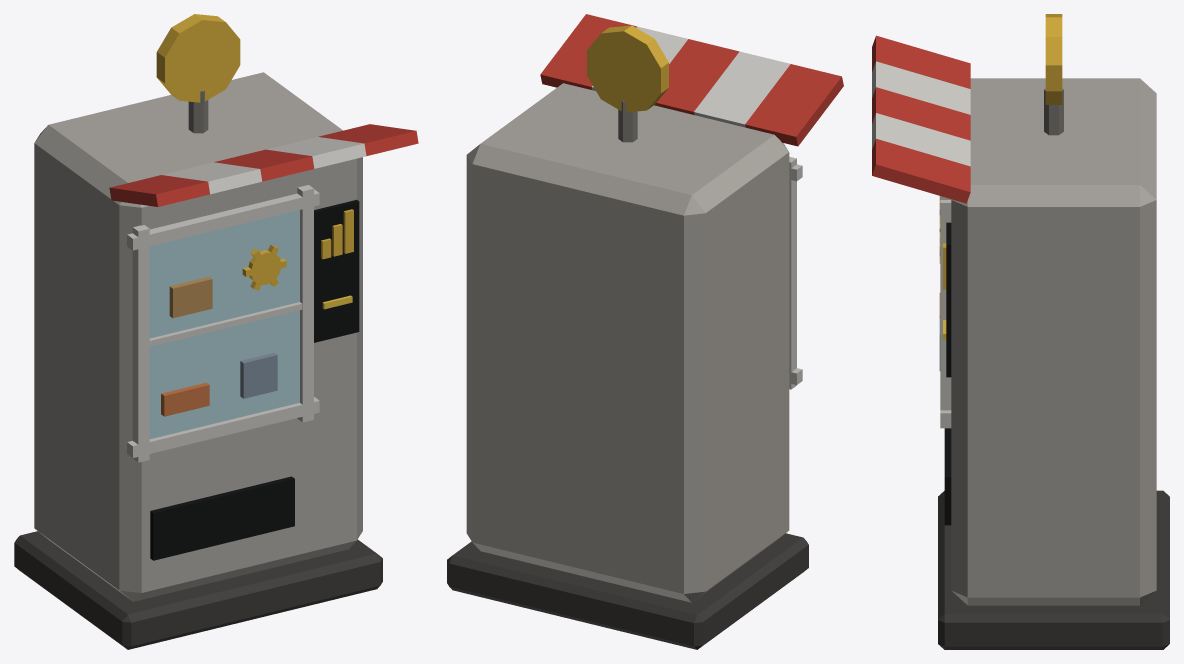
Rendered from vending.fbx.
The picture shows the model from 3 angles, left to right: view 1: azimuth 30°, elevation 25°; view 2: azimuth 150°, elevation 25°; view 3: azimuth 270°, elevation 25°; orthographic projection. The views are drawn at different scales.
Parts seen in each view (by area): view 1: vending; view 2: vending; view 3: vending.
Boxes of the visible parts, <box> form: vending: <box>14,14,418,649</box>; vending: <box>447,14,843,649</box>; vending: <box>872,14,1169,649</box>.
Bounding box in the file's own units: 2.76 × 5.7 × 2.7.
